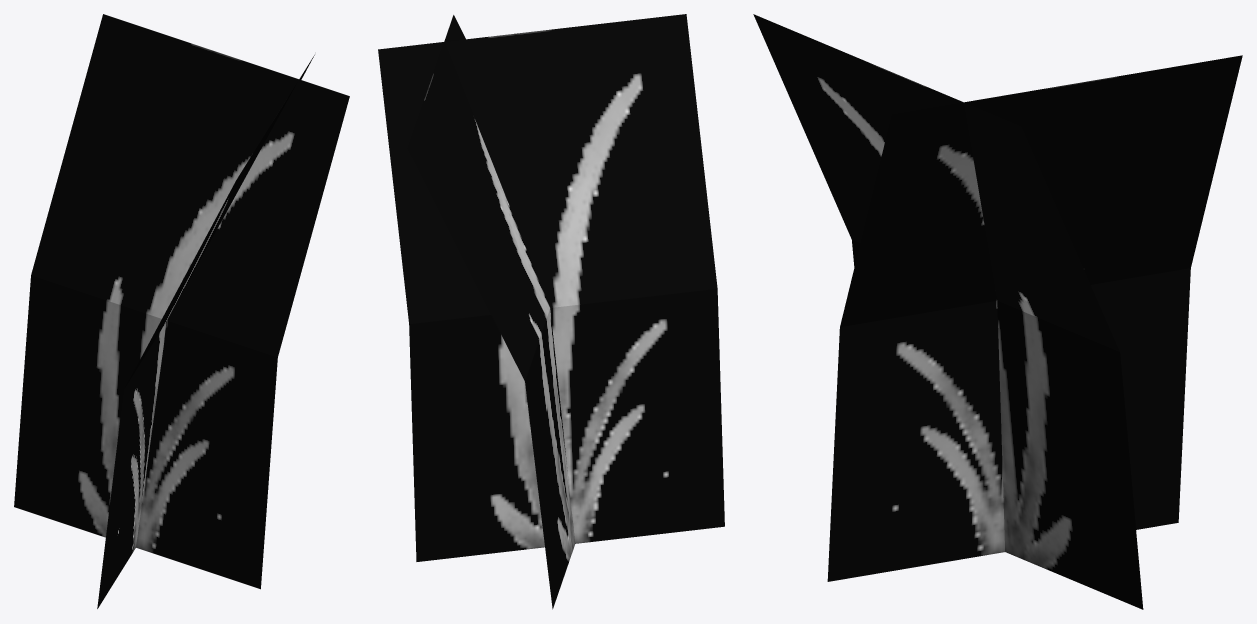
The model's file is Grass 2.fbx.
3 renders of one model, left to right at view 1: azimuth 30°, elevation 25°; view 2: azimuth 150°, elevation 25°; view 3: azimuth 270°, elevation 25°, orthographic. The views are drawn at different scales.
Parts seen in each view (by area): view 1: Plane; view 2: Plane; view 3: Plane.
Boxes of the visible parts, x1=… form: Plane: x1=14, y1=14, x2=349, y2=608; Plane: x1=378, y1=14, x2=724, y2=609; Plane: x1=753, y1=14, x2=1242, y2=609.
Bounding box in the file's own units: 1.32 × 2 × 1.66.
